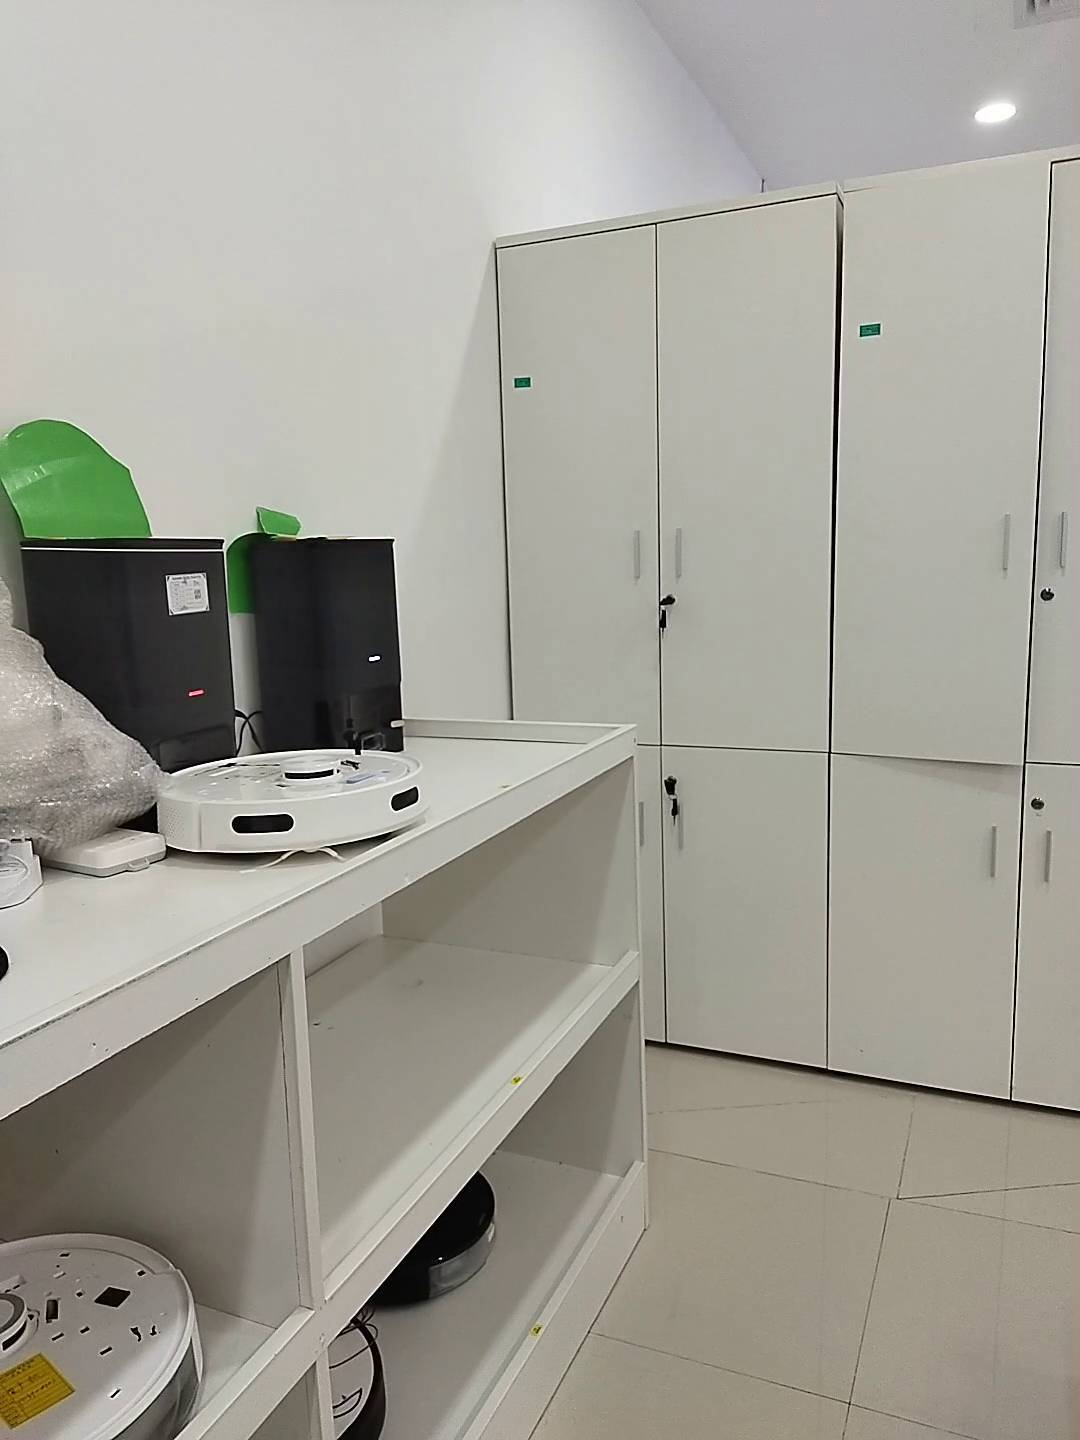dust collecting barrel: (18, 535, 242, 762), (255, 535, 406, 753)
